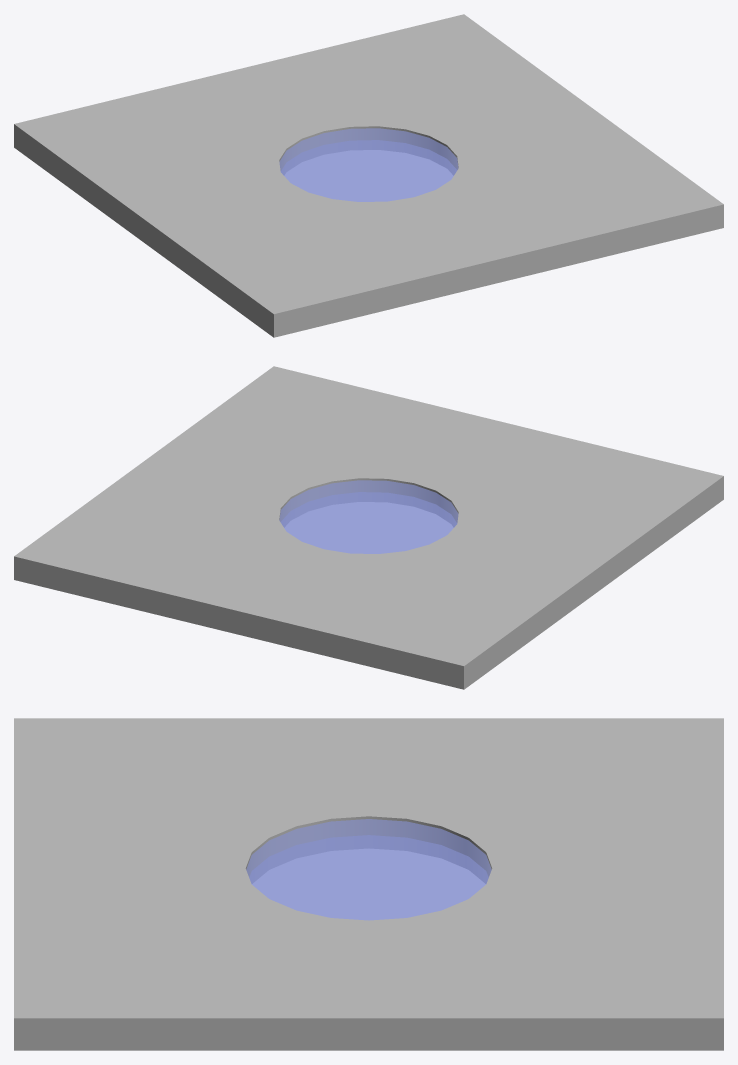
File: Floor_special.fbx
The picture shows the model from 3 angles, top to bottom: view 1: azimuth 30°, elevation 25°; view 2: azimuth 150°, elevation 25°; view 3: azimuth 270°, elevation 25°; orthographic projection. The views are drawn at different scales.
Parts seen in each view (by area): view 1: pCylinder5; view 2: pCylinder5; view 3: pCylinder5.
Part boxes in pixels (x1,y1,x2,y2): pCylinder5: (14,14,723,337); pCylinder5: (14,366,723,689); pCylinder5: (14,718,723,1050).
Size of the model in its own units: 10 by 0.5 by 10.
